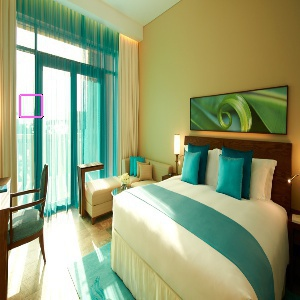square: (17, 92, 46, 120)
